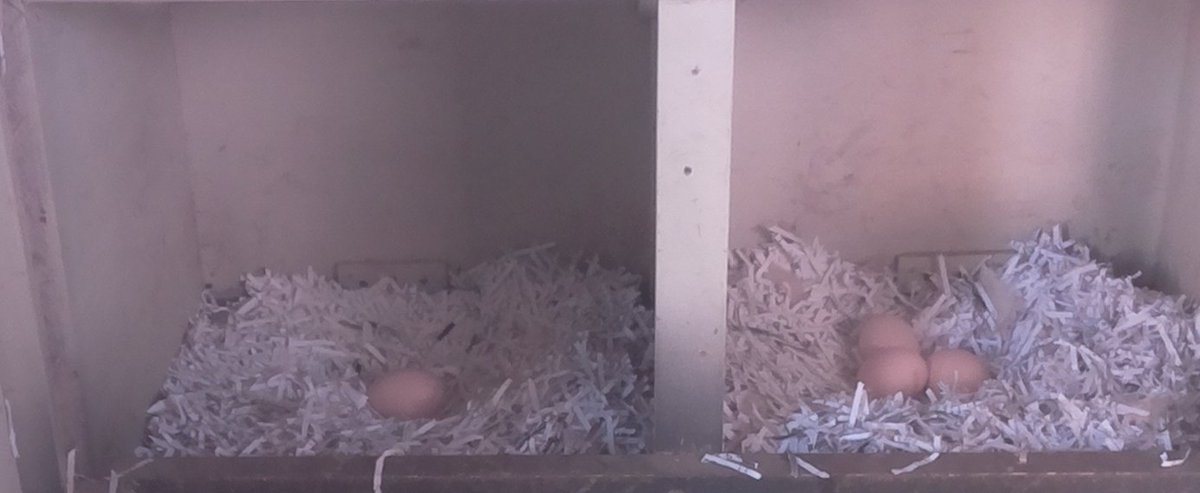egg: (361, 364, 453, 423), (852, 344, 930, 401), (848, 311, 925, 361), (926, 342, 993, 398)
